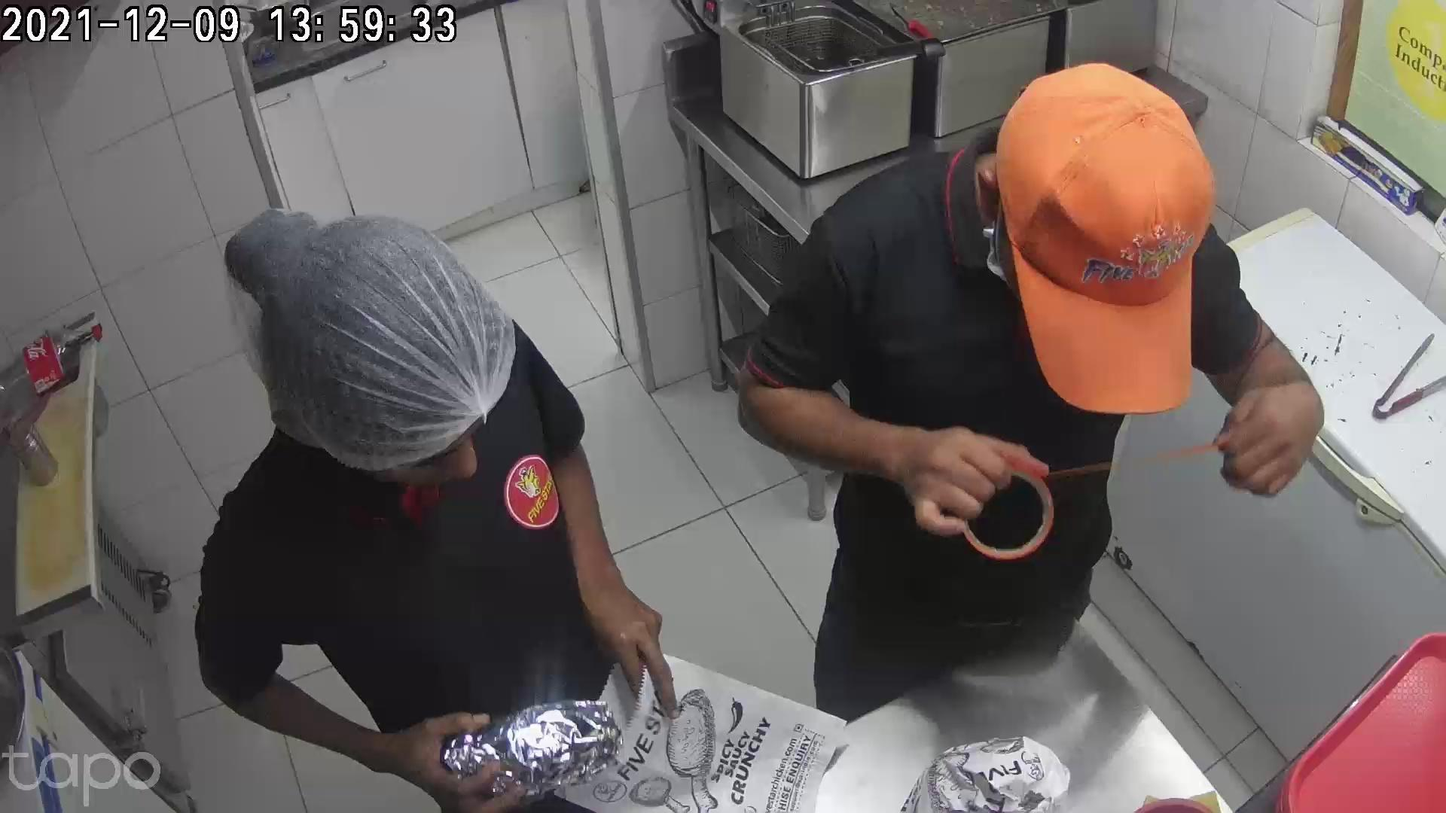no_gloves: (865, 426, 1005, 532)
